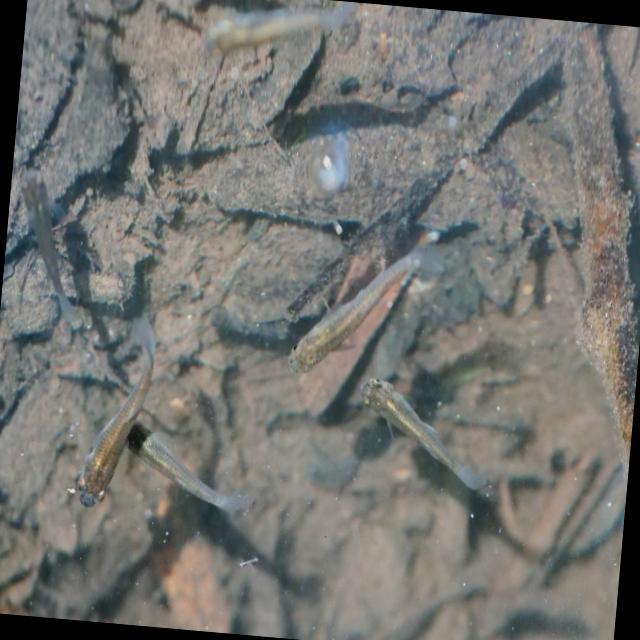Sivrisinek Baligi: (291, 235, 443, 388), (338, 378, 496, 499), (76, 304, 165, 510), (5, 162, 89, 324), (117, 422, 250, 515)
